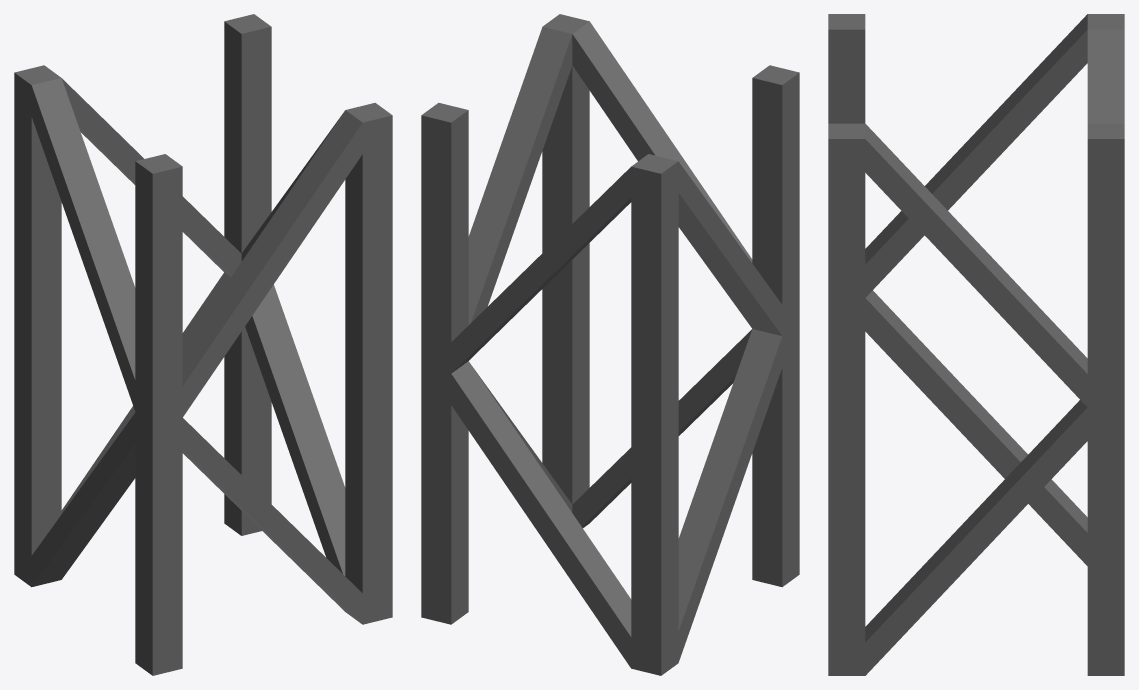
The model's file is Beam.fbx.
3 views of the same model, side by side, from view 1: azimuth 30°, elevation 25°; view 2: azimuth 150°, elevation 25°; view 3: azimuth 270°, elevation 25° (orthographic). The views are drawn at different scales.
Visible parts, largest first — view 1: group2, group; view 2: group2, group; view 3: group2, group.
Boxes of the visible parts, x1=… form: group2: x1=14, y1=14, x2=392, y2=424; group: x1=14, y1=272, x2=392, y2=675; group2: x1=421, y1=14, x2=799, y2=424; group: x1=421, y1=272, x2=799, y2=675; group2: x1=828, y1=14, x2=1124, y2=407; group: x1=828, y1=290, x2=1124, y2=675.
Size of the model in its own units: 100 by 200 by 100.
Materials: 1 (1 with a texture image).
